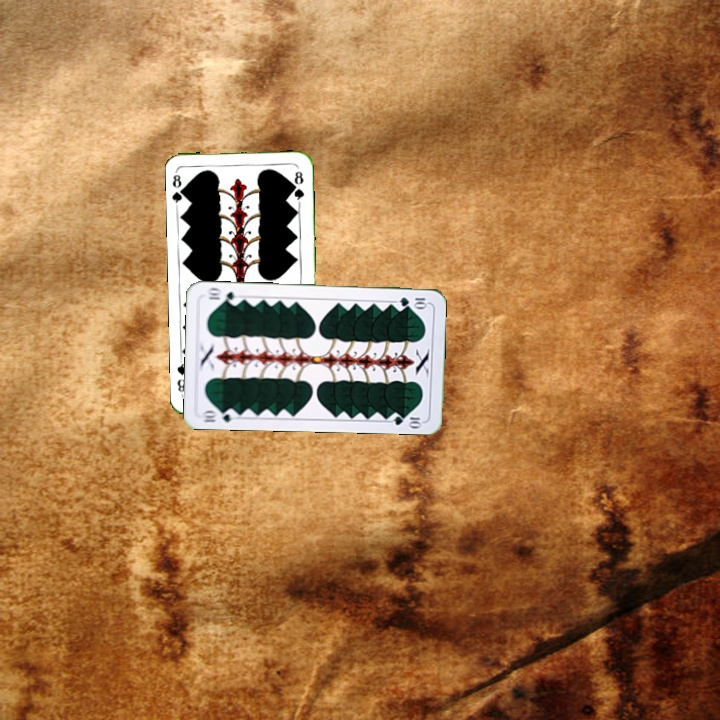G10: (198, 405, 239, 425), (395, 293, 430, 309)
G8: (168, 168, 189, 208)
